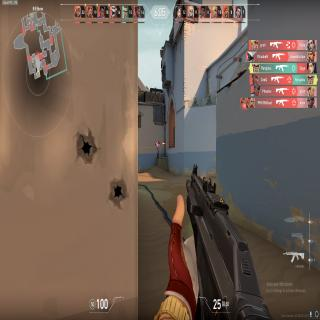ENEMY-BODY: (156, 140, 160, 157)
ENEMY-HEAD: (158, 141, 158, 143)
